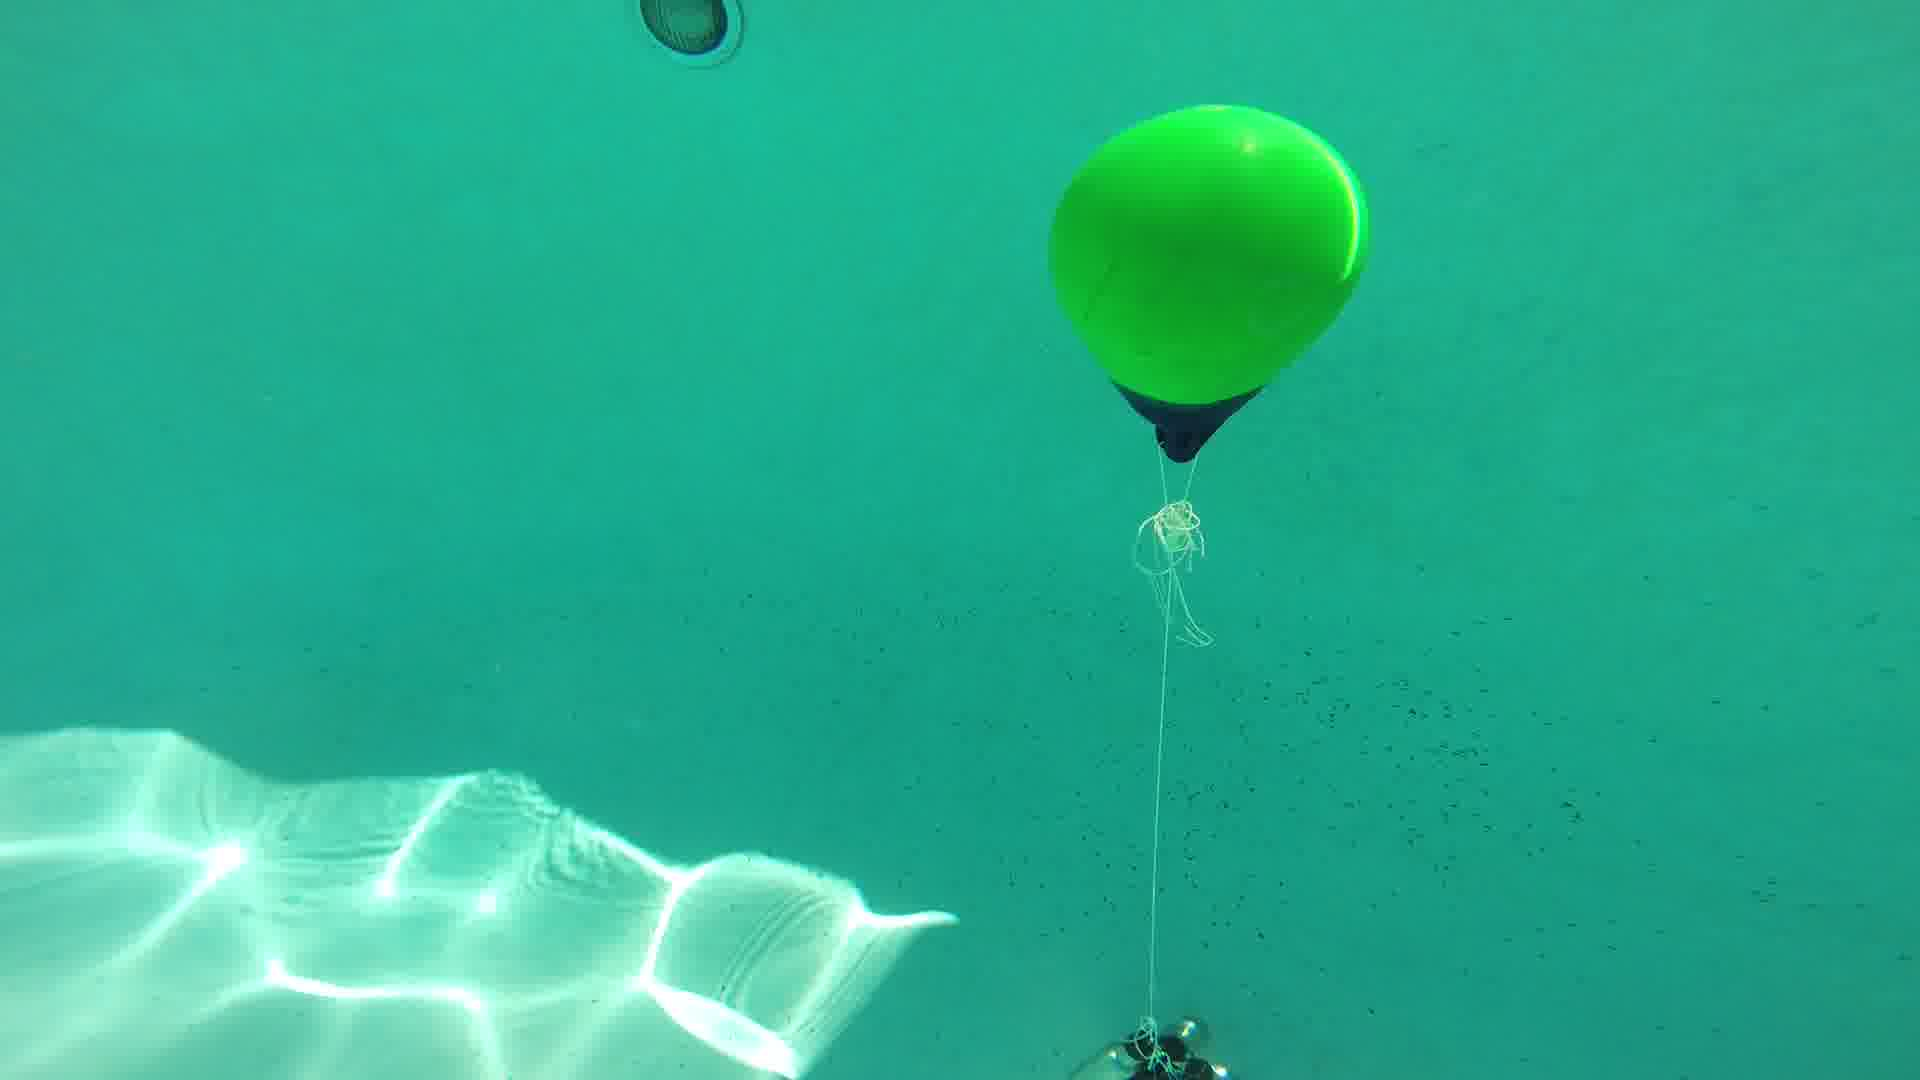yellow_buoy: (1044, 102, 1370, 464)
